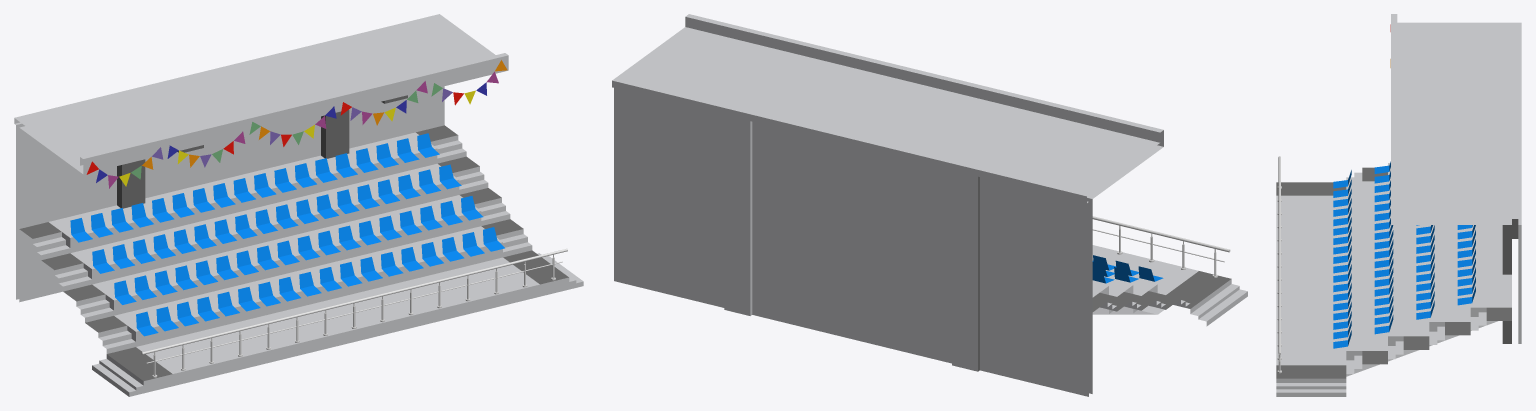
Rendered from tribune.fbx.
3 views of the same model, side by side, from view 1: azimuth 30°, elevation 25°; view 2: azimuth 150°, elevation 25°; view 3: azimuth 270°, elevation 25° (orthographic). The views are drawn at different scales.
Parts seen in each view (by area): view 1: White, Plane.058, Plane, Plane.081, Plane.085, Plane.001, Cylinder.001, Cylinder.002, Cylinder.004; view 2: White, Plane.081, Plane.058, Plane; view 3: White, Plane.058, Plane, Plane.085, Plane.081, Cylinder.001.
Part boxes in pixels (box(x1,y1,x2,y2)): White: box(14, 14, 508, 302); Plane.058: box(49, 132, 539, 386); Plane: box(70, 133, 504, 336); Plane.081: box(19, 222, 172, 396); Plane.085: box(416, 125, 583, 296); Plane.001: box(86, 60, 507, 188); Cylinder.001: box(141, 248, 567, 354); Cylinder.002: box(153, 257, 554, 375); Cylinder.004: box(146, 261, 562, 363); White: box(612, 14, 1163, 396); Plane.081: box(1092, 271, 1247, 326); Plane.058: box(1092, 245, 1198, 314); Plane: box(1092, 255, 1163, 283); White: box(1391, 14, 1521, 343); Plane.058: box(1276, 167, 1511, 376); Plane: box(1333, 161, 1475, 348); Plane.085: box(1276, 307, 1511, 396); Plane.081: box(1276, 163, 1389, 195); Cylinder.001: box(1278, 156, 1280, 354).
Size of the model in its own units: 1560 by 623 by 770.
